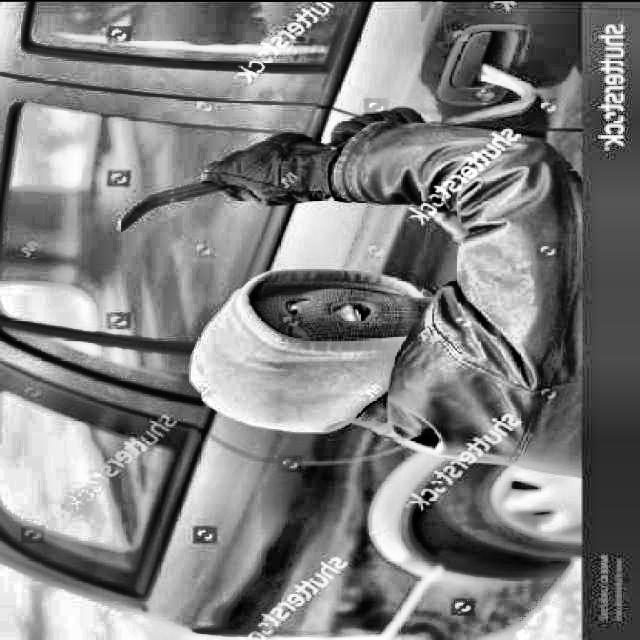robbery: (93, 59, 585, 484)
